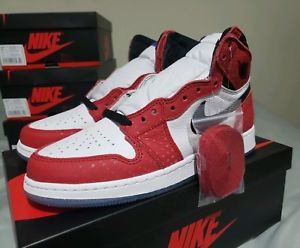Air Jordan 1 Spiderman: (23, 24, 260, 208)
